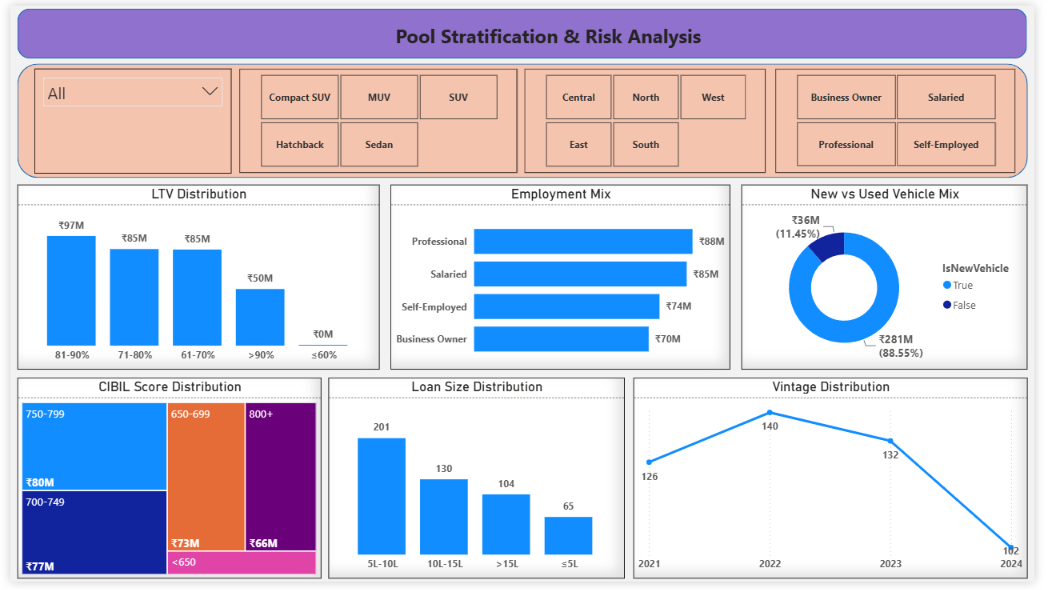

This screenshot's page, from the dashboard's own definition file:
{"tool":"powerbi","page":{"name":"Pool Stratification & Risk Analysis","canvas":[1280,720],"ordinal":1},"visuals":[{"type":"shape","box":[8.6,72.9,1262.9,142.9],"z":0},{"type":"slicer","fields":{"Values":["auto_loan_securitisation_data.Region"]},"box":[643,78.4,301.6,130.3],"z":1000},{"type":"slicer","fields":{"Values":["auto_loan_securitisation_data.VehicleType"]},"box":[285.9,78.4,347.5,130.3],"z":2000},{"type":"slicer","fields":{"Values":["auto_loan_securitisation_data.State"]},"box":[30.2,78.4,246.1,131.5],"z":3000},{"type":"slicer","fields":{"Values":["auto_loan_securitisation_data.EmploymentType"]},"box":[955.7,78.6,300,130],"z":4000},{"type":"treemap","title":"CIBIL Score Distribution","fields":{"Group":["auto_loan_securitisation_data.CIBIL Band"],"Values":["auto_loan_securitisation_data.Current Pool Balance"]},"box":[8.8,465,380,251.2],"z":5000},{"type":"barChart","title":"Employment Mix","fields":{"Category":["auto_loan_securitisation_data.EmploymentType"],"Y":["auto_loan_securitisation_data.Current Pool Balance"]},"box":[475,223.8,425,231.2],"z":6000},{"type":"donutChart","title":"New vs Used Vehicle Mix","fields":{"Category":["auto_loan_securitisation_data.IsNewVehicle"],"Y":["auto_loan_securitisation_data.Current Pool Balance"]},"box":[913.8,223.8,357.5,231.2],"z":7000},{"type":"clusteredColumnChart","title":"Loan Size Distribution ","fields":{"Category":["auto_loan_securitisation_data.Loan Size Band"],"Y":["auto_loan_securitisation_data.Total Loans"]},"box":[397.5,465,370,251.2],"z":8000},{"type":"lineChart","title":"Vintage Distribution","fields":{"Category":["auto_loan_securitisation_data.Origination Year"],"Y":["auto_loan_securitisation_data.Total Loans"]},"box":[778.8,465,492.5,251.2],"z":9000},{"type":"clusteredColumnChart","title":"LTV Distribution","fields":{"Category":["auto_loan_securitisation_data.LTV Band"],"Y":["auto_loan_securitisation_data.Current Pool Balance"]},"box":[8.8,223.8,452.5,231.2],"z":10000},{"type":"shape","box":[8.6,3.7,1262,62.4],"z":11000},{"type":"textbox","box":[475.7,15.7,405.7,51.4],"z":12000}]}

Visuals, with their boxes in screenshot pixels (x1, y1, x2, y2), scaled from the page's 1280x720 canvas onto the 1048x590 screenshot:
shape: crop(7, 60, 1041, 177)
slicer - auto_loan_securitisation_data.Region: crop(526, 64, 773, 171)
slicer - auto_loan_securitisation_data.VehicleType: crop(234, 64, 519, 171)
slicer - auto_loan_securitisation_data.State: crop(25, 64, 226, 172)
slicer - auto_loan_securitisation_data.EmploymentType: crop(782, 64, 1028, 171)
"CIBIL Score Distribution" treemap: crop(7, 381, 318, 587)
"Employment Mix" barChart: crop(389, 183, 737, 373)
"New vs Used Vehicle Mix" donutChart: crop(748, 183, 1041, 373)
"Loan Size Distribution " clusteredColumnChart: crop(325, 381, 628, 587)
"Vintage Distribution" lineChart: crop(638, 381, 1041, 587)
"LTV Distribution" clusteredColumnChart: crop(7, 183, 378, 373)
shape: crop(7, 3, 1040, 54)
textbox: crop(389, 13, 722, 55)
